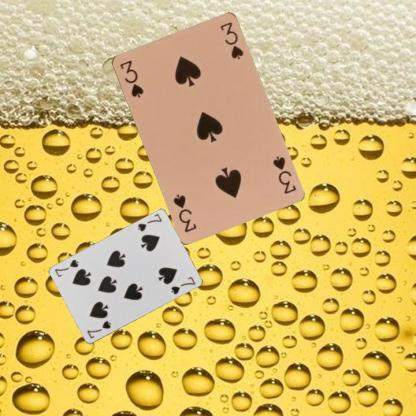3s: (117, 58, 145, 100), (270, 153, 297, 195)
7s: (84, 318, 112, 340), (135, 211, 163, 233)
